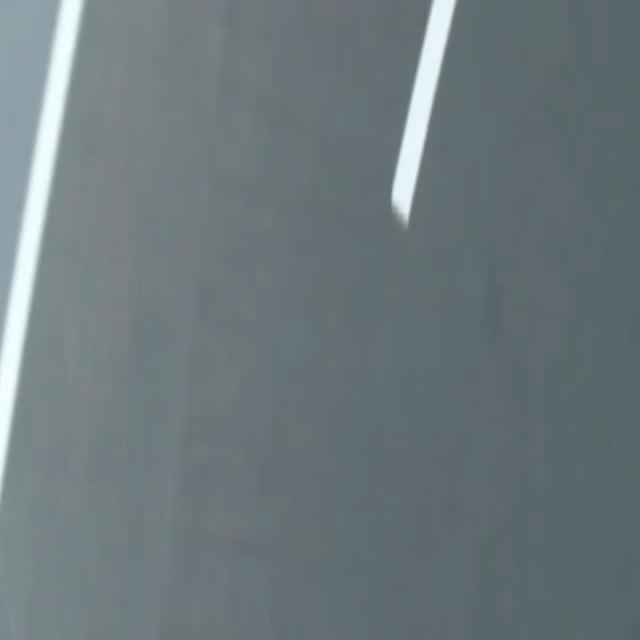center: (392, 0, 456, 228)
left: (0, 0, 84, 499)
